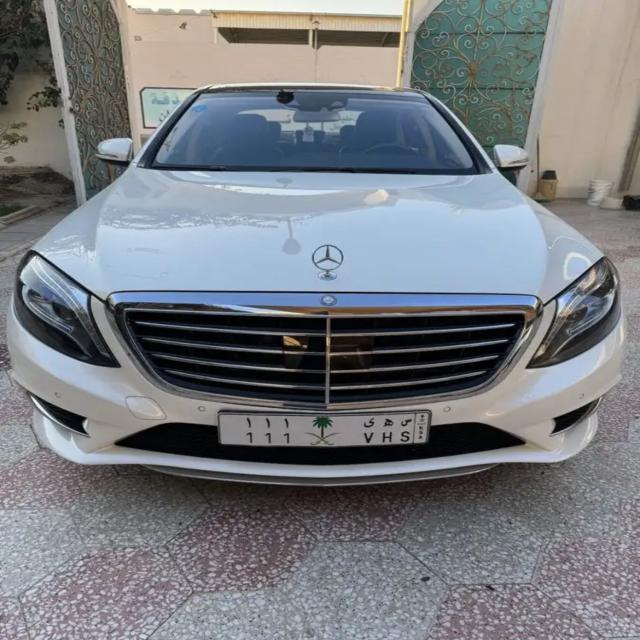license_plate: (216, 411, 434, 454)
